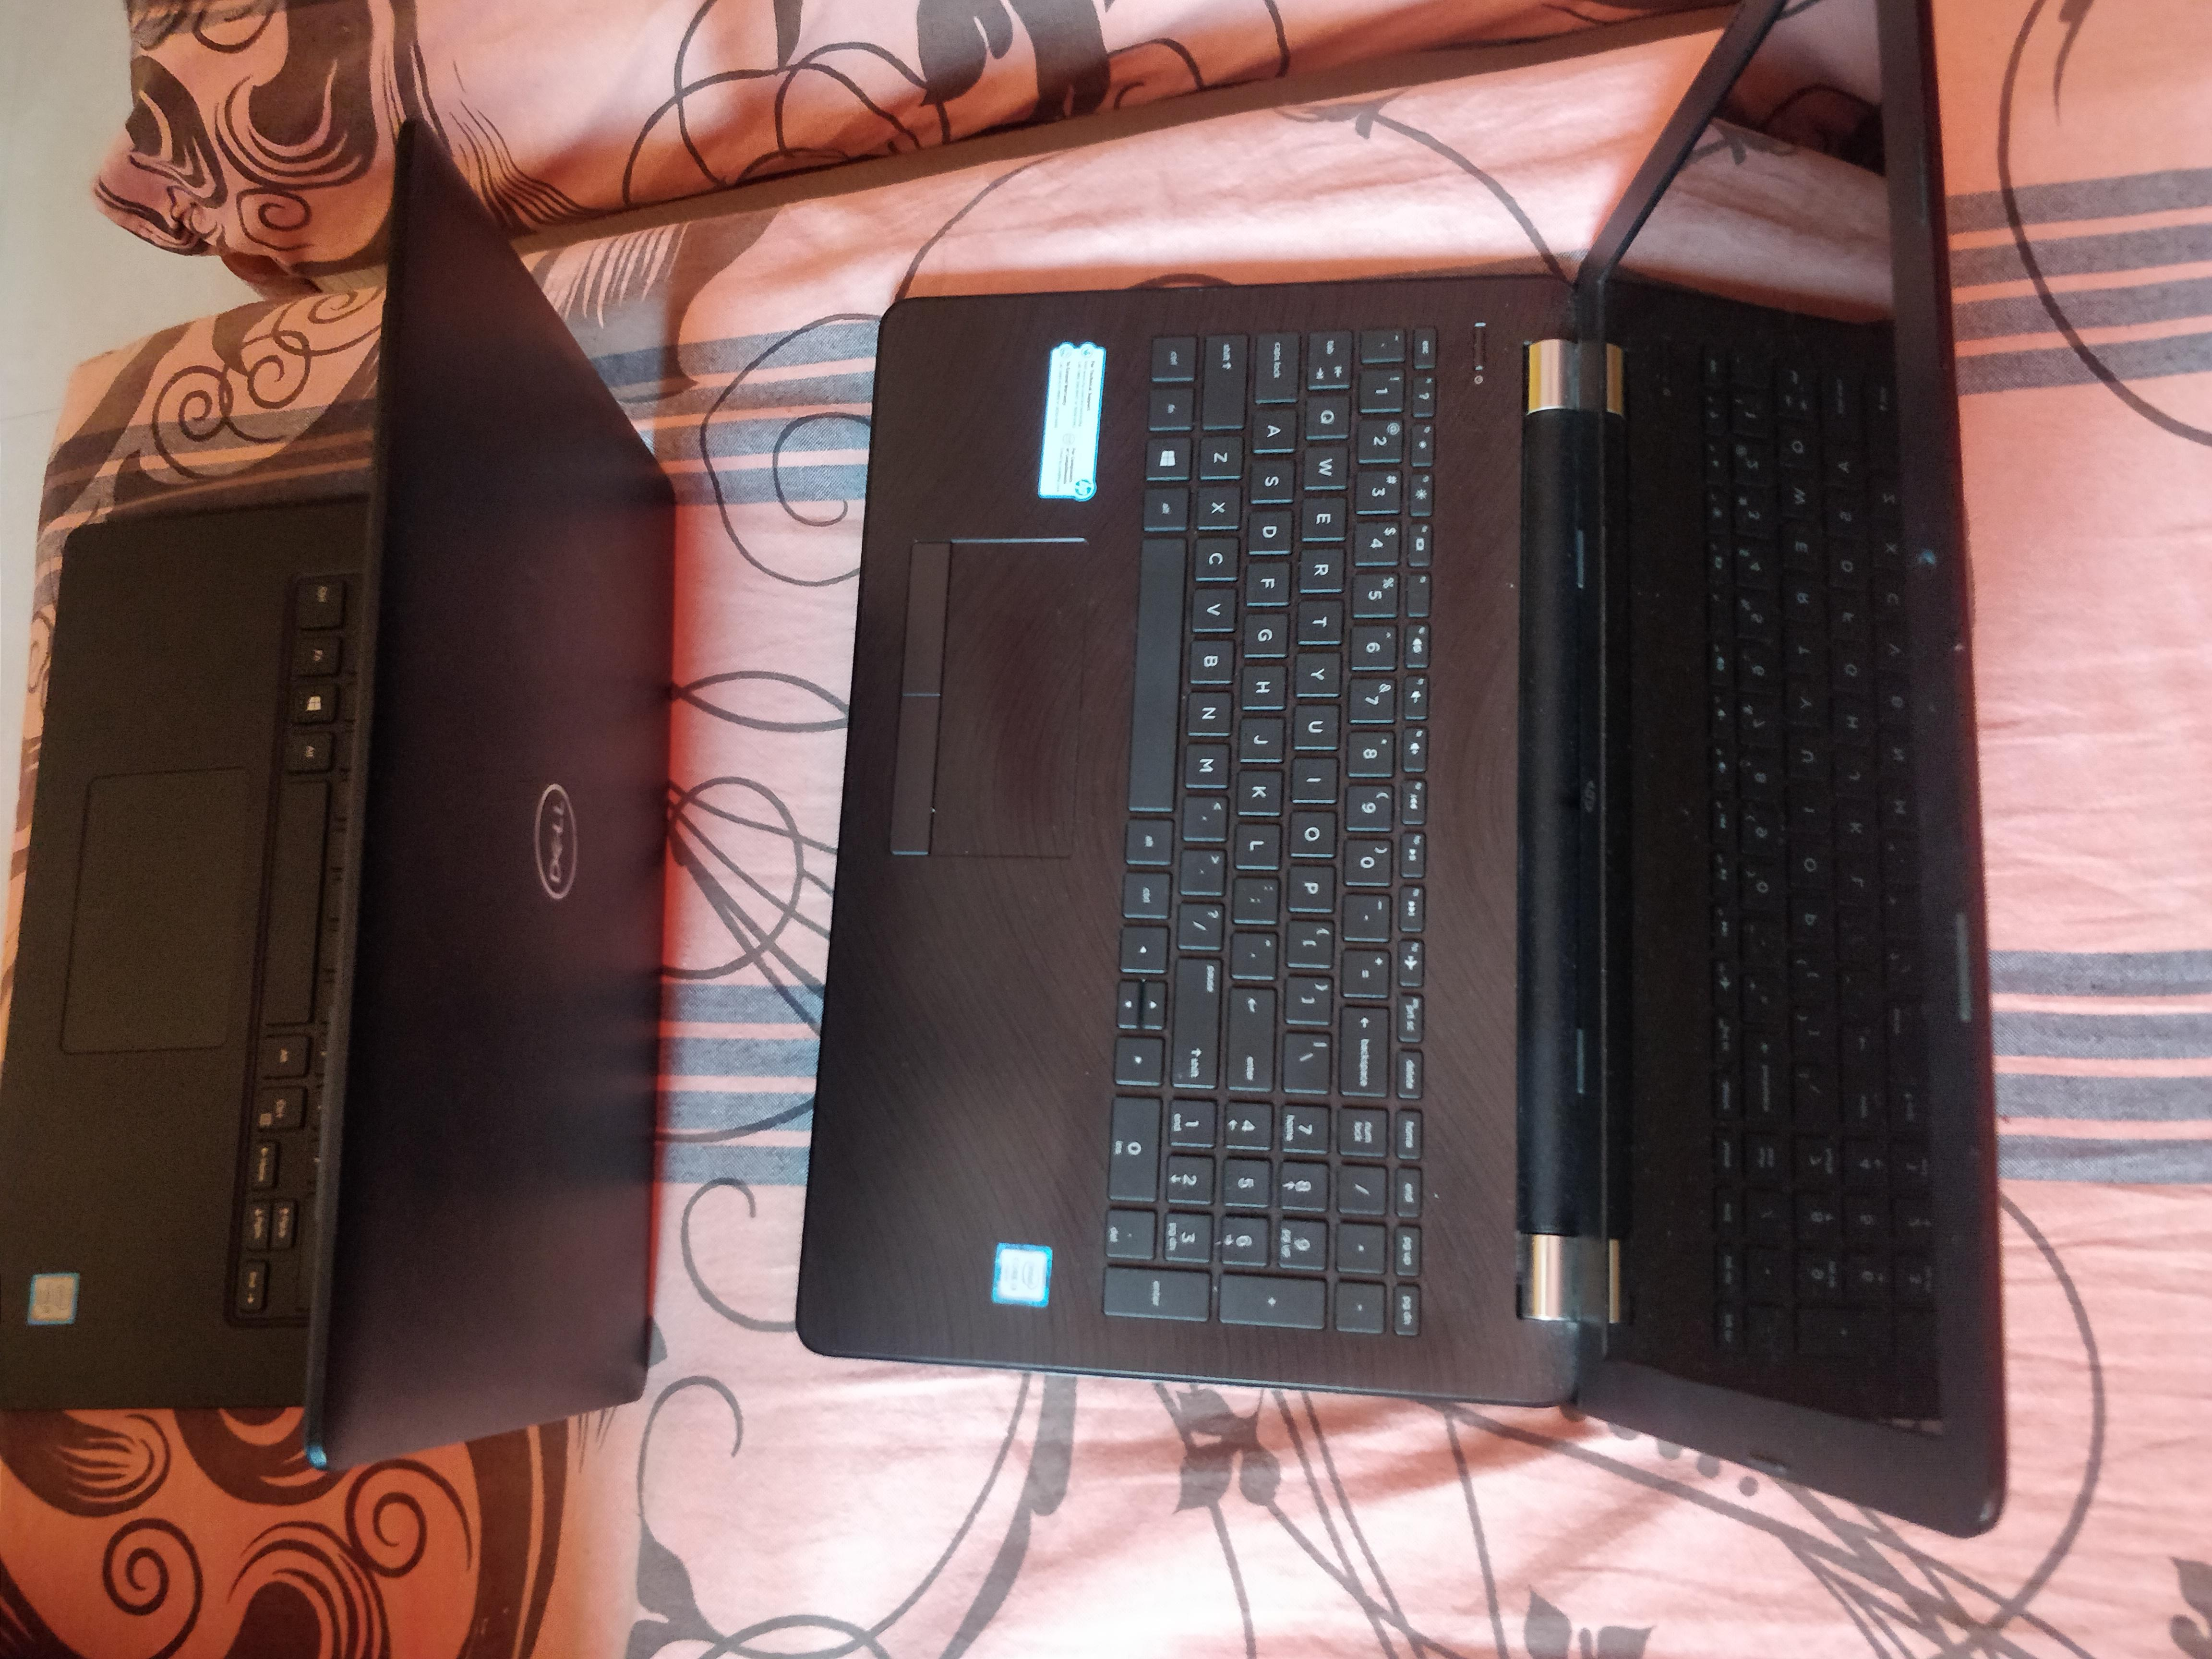laptop: (768, 2, 2064, 1558), (0, 96, 716, 1500)
